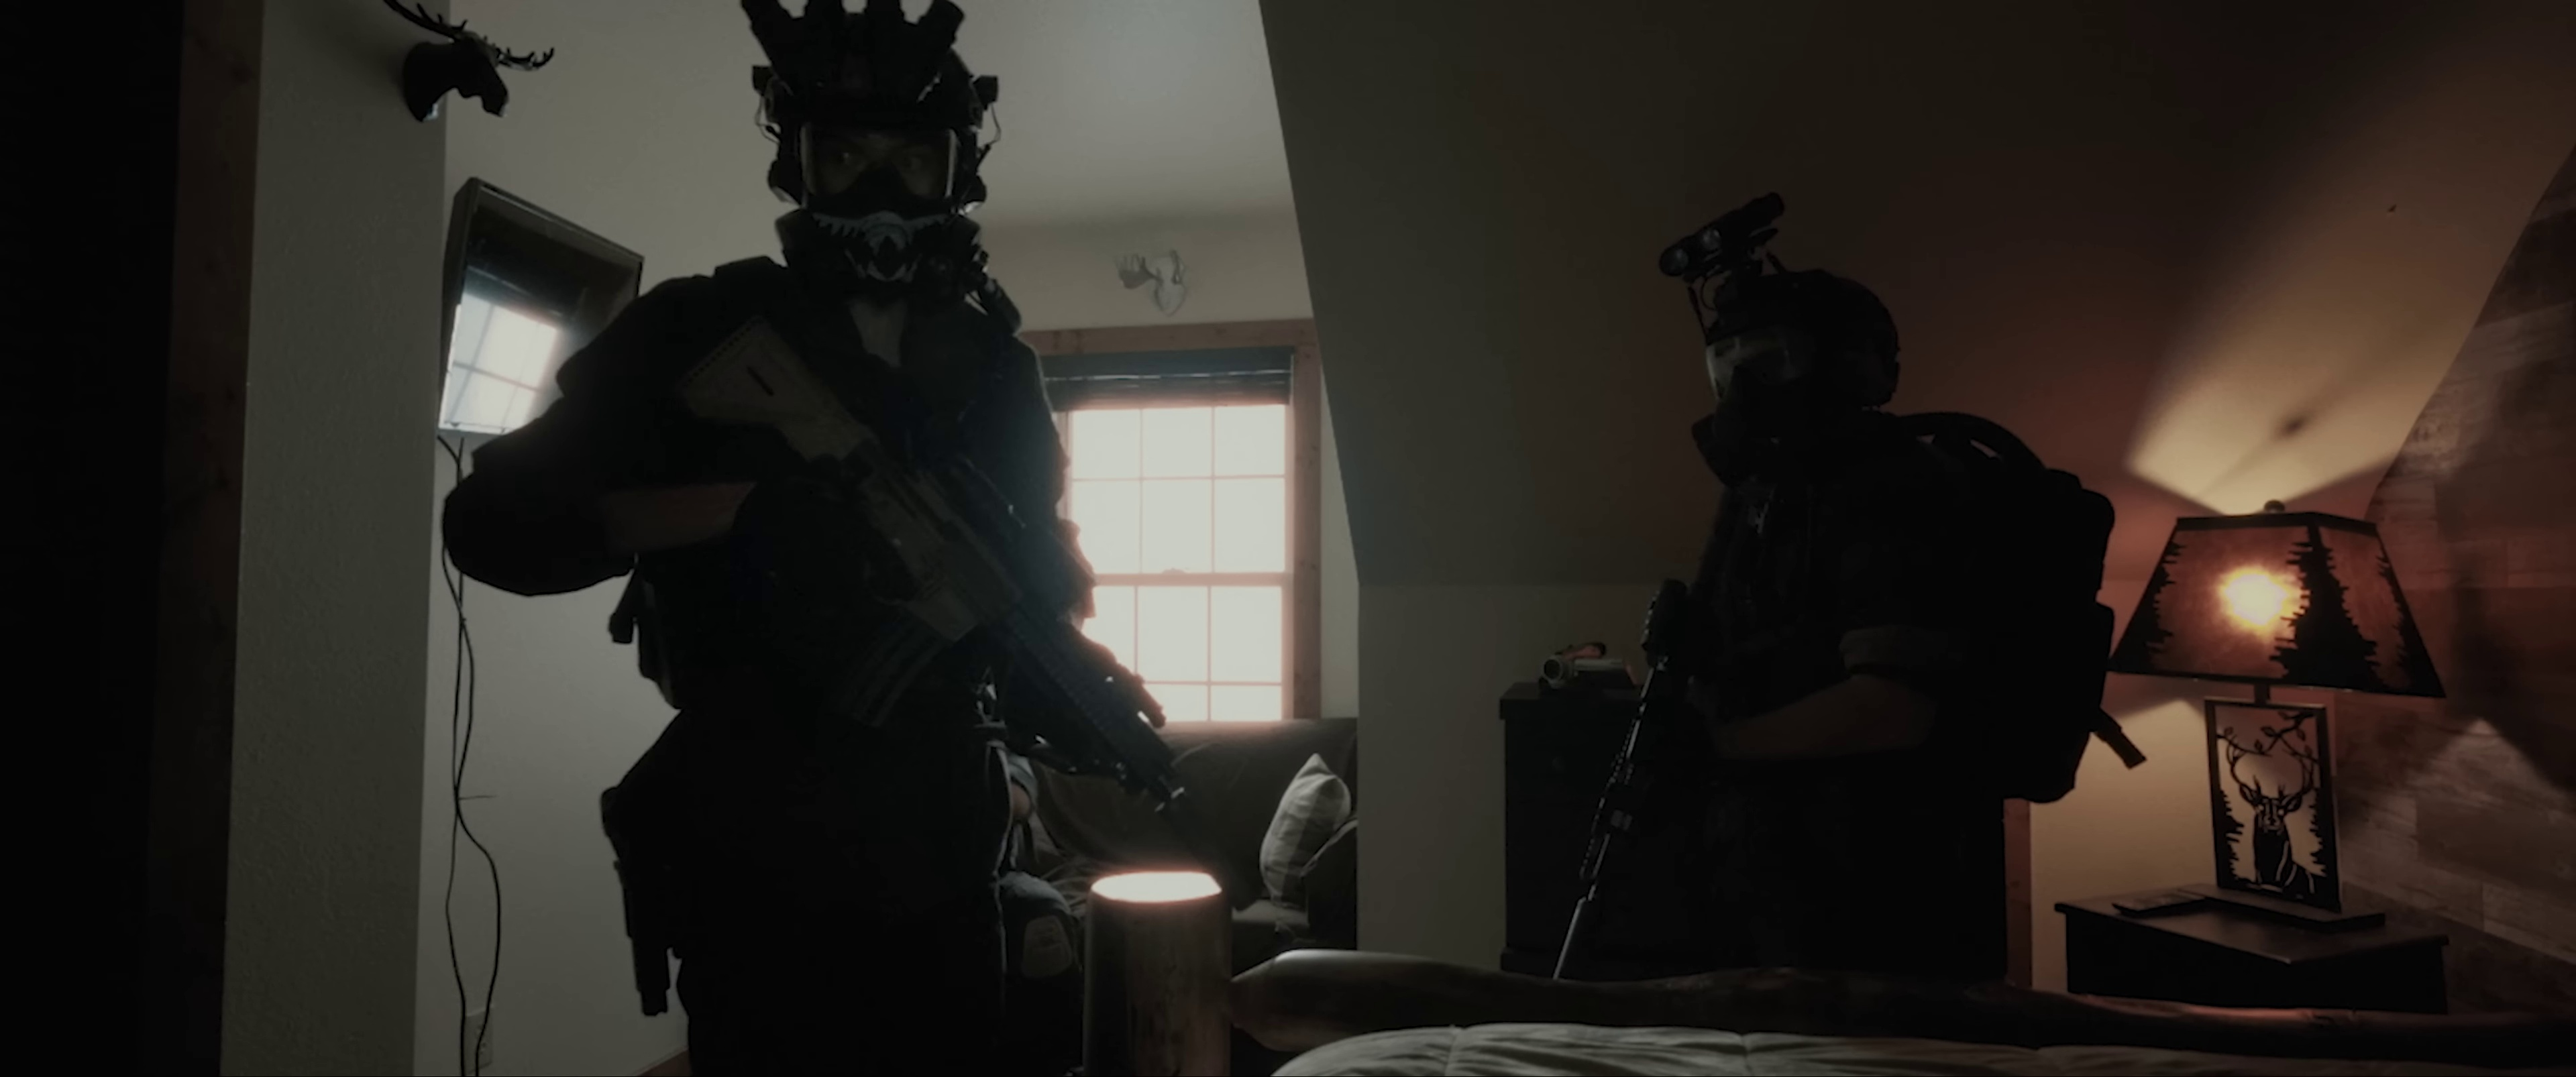gun: (669, 291, 1193, 821), (1554, 488, 1761, 987), (596, 777, 687, 1021)
p_w_gun: (437, 0, 1186, 1072), (1562, 192, 2113, 1051)
